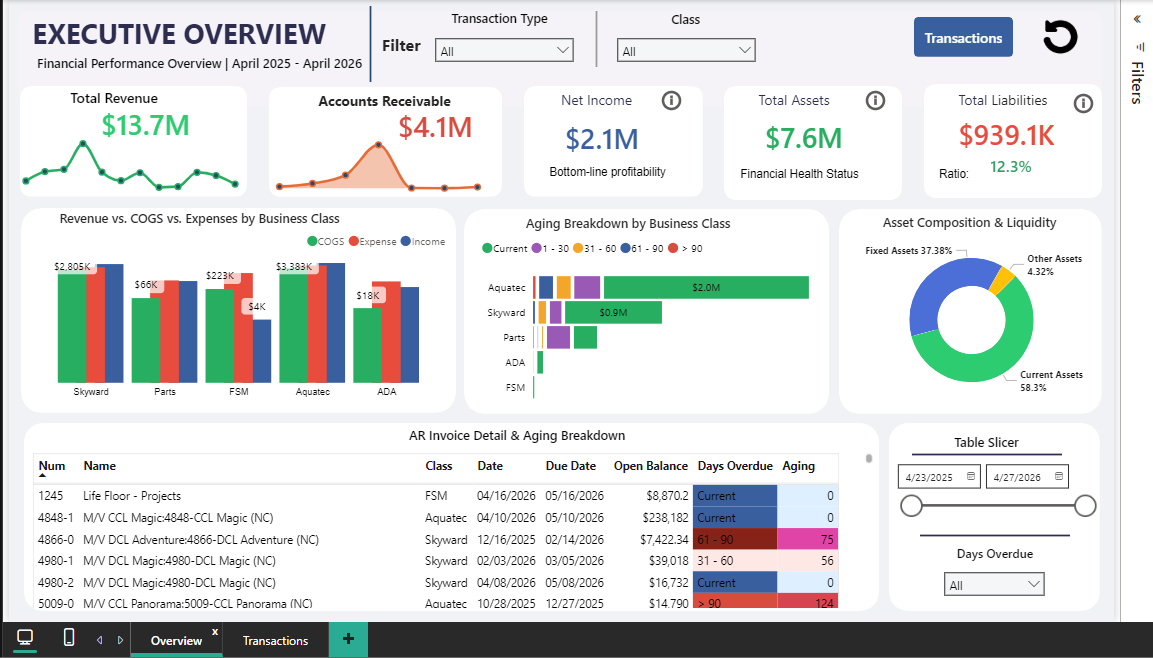

Layout of this report page (visuals, bound fields, positions):
{"tool":"powerbi","page":{"name":"Overview","canvas":[1280,720],"ordinal":0},"visuals":[{"type":"shape","box":[1018.6,489.6,244.2,217.6],"z":0},{"type":"shape","box":[10.4,12.7,1254.8,110],"z":1000},{"type":"textbox","box":[22,10.4,358.8,55.6],"z":2000},{"type":"shape","box":[12.7,99.5,262.8,128.5],"z":3000},{"type":"shape","box":[300.7,100.7,269.7,127.3],"z":4000},{"type":"shape","box":[595.6,99.5,207.2,128.5],"z":5000},{"type":"shape","box":[827.9,99.5,206,132],"z":6000},{"type":"cardVisual","fields":{"Data":["MeasureTablePage1.Total Revenue"]},"box":[66,108.8,184.1,67.1],"z":7000},{"type":"cardVisual","fields":{"Data":["MeasureTablePage1.Total AR"]},"box":[428.3,115.8,130.8,57.9],"z":8000},{"type":"cardVisual","fields":{"Data":["MeasureTablePage1.Net Income"]},"box":[599.6,125,173.6,64.8],"z":9000},{"type":"shape","box":[1059.2,97.2,206,132],"z":10000},{"type":"cardVisual","fields":{"Data":["MeasureTablePage1.Total Liabilities"]},"box":[1049.9,119.2,209.5,68.3],"z":11000},{"type":"cardVisual","fields":{"Data":["MeasureTablePage1.Total Assets"]},"box":[832.9,122.7,173.6,68.3],"z":12000},{"type":"textbox","box":[66,97.2,135.4,45.1],"z":13000},{"type":"textbox","box":[351.9,100.7,165.5,33.6],"z":14000},{"type":"textbox","box":[627.4,99.5,105.3,32.4],"z":15000},{"type":"textbox","box":[862.4,99.5,97.2,34.7],"z":16000},{"type":"textbox","box":[1093.9,99.5,135.4,33.6],"z":17000},{"type":"textbox","box":[22,57.9,397,39.4],"z":18000},{"type":"textbox","box":[600.8,185.2,184.1,40.5],"z":19000},{"type":"textbox","box":[822.4,187.5,184.1,40.5],"z":20000},{"type":"textbox","box":[1067.3,187.5,53.2,33.6],"z":21000},{"type":"textbox","box":[424.8,33.6,63.7,37],"z":22000},{"type":"shape","box":[13.9,240.8,503.5,237.3],"z":23000},{"type":"lineClusteredColumnComboChart","fields":{"Series":["Profit & Loss.Category"],"Category":["Profit & Loss.Attribute"],"Y":["Sum(Profit & Loss.Value)"]},"box":[17.4,259.3,497.7,209.5],"z":24000},{"type":"shape","box":[526.7,241.9,422.5,237.3],"z":25000},{"type":"barChart","fields":{"Category":["AR Details.Class"],"Y":["Sum(AR Details.Open Balance)"],"Series":["AR Details.Days Overdue"]},"box":[542.9,267.4,387.8,210.7],"z":26000},{"type":"textbox","box":[53.2,237.3,334.5,39.4],"z":27000},{"type":"textbox","box":[574.1,243.1,284.8,39.4],"z":28000},{"type":"shape","box":[960.8,241.9,304.4,237.3],"z":29000},{"type":"slicer","fields":{"Values":["Transactions.Type"]},"box":[488.5,39.4,170.2,38.2],"z":30000},{"type":"textbox","box":[497.7,5.8,140.1,31.3],"z":31000},{"type":"actionButton","box":[751.3,100.7,32.4,31.3],"z":32000},{"type":"actionButton","box":[987.4,100.7,33.6,31.3],"z":33000},{"type":"actionButton","box":[1228.2,104.2,33.6,31.3],"z":34000},{"type":"donutChart","fields":{"Category":["Balance Sheet.Sub Category"],"Y":["Sum(Balance Sheet.Amount)"]},"box":[968.9,267.4,290.5,206],"z":35000},{"type":"textbox","box":[977,241.9,269.7,34.7],"z":36000},{"type":"shape","box":[17.4,489.6,989.7,217.6],"z":37000},{"type":"tableEx","fields":{"Values":["AR Details.Num","AR Details.Name","AR Details.Class","AR Details.Date","AR Details.Due Date","Sum(AR Details.Open Balance)","AR Details.Days Overdue","AR Details.Aging"]},"box":[22,519.7,982.8,187.5],"z":38000},{"type":"textbox","box":[438.7,488.5,298.6,39.4],"z":39000},{"type":"slicer","fields":{"Values":["AR Details.Days Overdue"]},"box":[1077.7,657.5,126.2,38.2],"z":43000},{"type":"shape","box":[673.7,12.7,12.7,64.8],"z":44000},{"type":"textbox","box":[1084.6,626.2,113.4,31.3],"z":45000},{"type":"slicer","fields":{"Values":["AR Details.Date"]},"box":[1021,532.5,240.8,71.8],"z":46000},{"type":"cardVisual","fields":{"Data":["MeasureTablePage1.Debt Ratio"]},"box":[1129.8,175.9,88,40.5],"z":47000},{"type":"shape","box":[412.1,6.9,12.7,88],"z":48000},{"type":"lineChart","fields":{"Category":["Calendar.Date.Variation.Date Hierarchy.Month"],"Y":["MeasureTablePage2.Adjusted Revenue"]},"box":[5.8,148.2,269.7,78.7],"z":49000},{"type":"areaChart","fields":{"Category":["Calendar.Date.Variation.Date Hierarchy.Month"],"Y":["MeasureTablePage1.Total AR"]},"box":[292.9,149.3,269.7,78.7],"z":50000},{"type":"textbox","box":[1084.6,496.6,93.8,31.3],"z":51000},{"type":"shape","box":[1045.3,519.7,173.6,12.7],"z":52000},{"type":"shape","box":[1054.5,613.5,173.6,12.7],"z":52001},{"type":"slicer","fields":{"Values":["Transactions by Customer.Class"]},"box":[699.2,39.4,170.2,38.2],"z":52003},{"type":"textbox","box":[713.1,6.9,140.1,31.3],"z":52004},{"type":"shape","box":[1047.6,19.7,114.6,46.3],"z":52005},{"type":"image","box":[1188.8,19.7,56.7,46.3],"z":52006}]}

Visuals, with their boxes on the page's 1280x720 design canvas (x1, y1, x2, y2). These are canvas units, not pixel positions in the 1153x658 screenshot, which may show the page scaled, cropped or inside an application window:
shape: <bbox>1019, 490, 1263, 707</bbox>
shape: <bbox>10, 13, 1265, 123</bbox>
textbox: <bbox>22, 10, 381, 66</bbox>
shape: <bbox>13, 100, 276, 228</bbox>
shape: <bbox>301, 101, 570, 228</bbox>
shape: <bbox>596, 100, 803, 228</bbox>
shape: <bbox>828, 100, 1034, 232</bbox>
cardVisual - MeasureTablePage1.Total Revenue: <bbox>66, 109, 250, 176</bbox>
cardVisual - MeasureTablePage1.Total AR: <bbox>428, 116, 559, 174</bbox>
cardVisual - MeasureTablePage1.Net Income: <bbox>600, 125, 773, 190</bbox>
shape: <bbox>1059, 97, 1265, 229</bbox>
cardVisual - MeasureTablePage1.Total Liabilities: <bbox>1050, 119, 1259, 188</bbox>
cardVisual - MeasureTablePage1.Total Assets: <bbox>833, 123, 1006, 191</bbox>
textbox: <bbox>66, 97, 201, 142</bbox>
textbox: <bbox>352, 101, 517, 134</bbox>
textbox: <bbox>627, 100, 733, 132</bbox>
textbox: <bbox>862, 100, 960, 134</bbox>
textbox: <bbox>1094, 100, 1229, 133</bbox>
textbox: <bbox>22, 58, 419, 97</bbox>
textbox: <bbox>601, 185, 785, 226</bbox>
textbox: <bbox>822, 188, 1006, 228</bbox>
textbox: <bbox>1067, 188, 1120, 221</bbox>
textbox: <bbox>425, 34, 488, 71</bbox>
shape: <bbox>14, 241, 517, 478</bbox>
lineClusteredColumnComboChart - Profit & Loss.Category x Profit & Loss.Attribute: <bbox>17, 259, 515, 469</bbox>
shape: <bbox>527, 242, 949, 479</bbox>
barChart - AR Details.Class x Sum(AR Details.Open Balance): <bbox>543, 267, 931, 478</bbox>
textbox: <bbox>53, 237, 388, 277</bbox>
textbox: <bbox>574, 243, 859, 282</bbox>
shape: <bbox>961, 242, 1265, 479</bbox>
slicer - Transactions.Type: <bbox>488, 39, 659, 78</bbox>
textbox: <bbox>498, 6, 638, 37</bbox>
actionButton: <bbox>751, 101, 784, 132</bbox>
actionButton: <bbox>987, 101, 1021, 132</bbox>
actionButton: <bbox>1228, 104, 1262, 136</bbox>
donutChart - Balance Sheet.Sub Category x Sum(Balance Sheet.Amount): <bbox>969, 267, 1259, 473</bbox>
textbox: <bbox>977, 242, 1247, 277</bbox>
shape: <bbox>17, 490, 1007, 707</bbox>
tableEx - AR Details.Num x AR Details.Name: <bbox>22, 520, 1005, 707</bbox>
textbox: <bbox>439, 488, 737, 528</bbox>
slicer - AR Details.Days Overdue: <bbox>1078, 658, 1204, 696</bbox>
shape: <bbox>674, 13, 686, 78</bbox>
textbox: <bbox>1085, 626, 1198, 658</bbox>
slicer - AR Details.Date: <bbox>1021, 532, 1262, 604</bbox>
cardVisual - MeasureTablePage1.Debt Ratio: <bbox>1130, 176, 1218, 216</bbox>
shape: <bbox>412, 7, 425, 95</bbox>
lineChart - Calendar.Date.Variation.Date Hierarchy.Month x MeasureTablePage2.Adjusted Revenue: <bbox>6, 148, 276, 227</bbox>
areaChart - Calendar.Date.Variation.Date Hierarchy.Month x MeasureTablePage1.Total AR: <bbox>293, 149, 563, 228</bbox>
textbox: <bbox>1085, 497, 1178, 528</bbox>
shape: <bbox>1045, 520, 1219, 532</bbox>
shape: <bbox>1054, 614, 1228, 626</bbox>
slicer - Transactions by Customer.Class: <bbox>699, 39, 869, 78</bbox>
textbox: <bbox>713, 7, 853, 38</bbox>
shape: <bbox>1048, 20, 1162, 66</bbox>
image: <bbox>1189, 20, 1246, 66</bbox>
